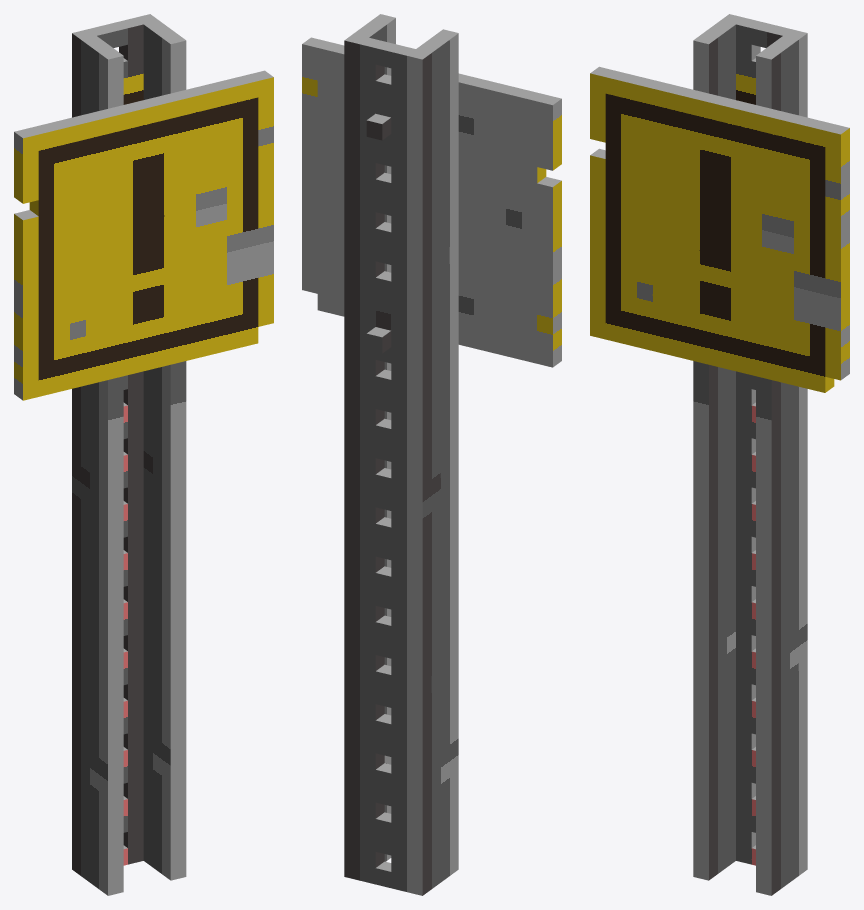
File: warning_signao.fezao.glb
3 renders of one model, left to right at view 1: azimuth 30°, elevation 25°; view 2: azimuth 150°, elevation 25°; view 3: azimuth 330°, elevation 25°, orthographic.
Parts seen in each view (by area): view 1: WARNING_SIGNAO; view 2: WARNING_SIGNAO; view 3: WARNING_SIGNAO.
Boxes of the visible parts, <box> form: WARNING_SIGNAO: <box>14,14,273,895</box>; WARNING_SIGNAO: <box>302,14,561,895</box>; WARNING_SIGNAO: <box>590,14,849,895</box>.
Size of the model in its own units: 1 by 3.19 by 0.375.
1 material, 1 textured.
